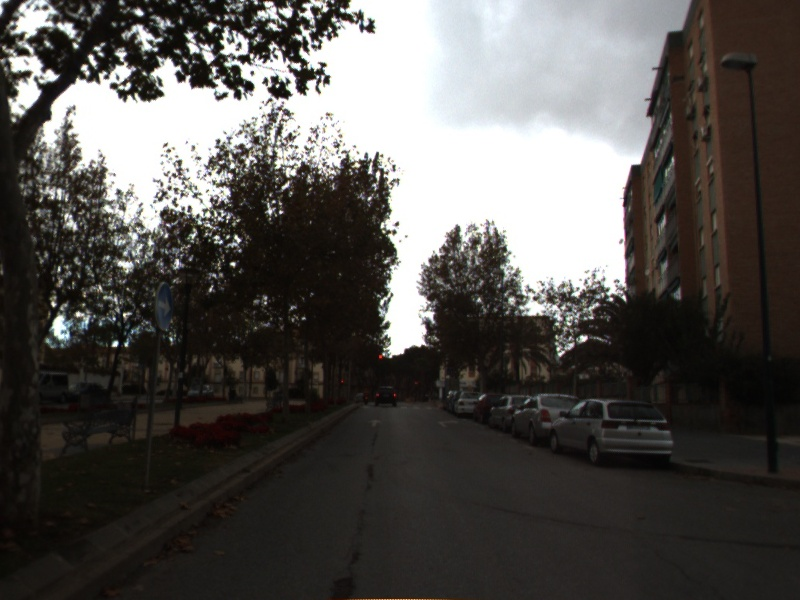RIGHT: (435, 417, 461, 429)
STRAIGHT: (365, 417, 385, 429)
